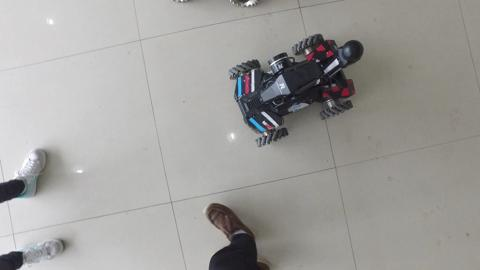chariot: (228, 28, 373, 150)
